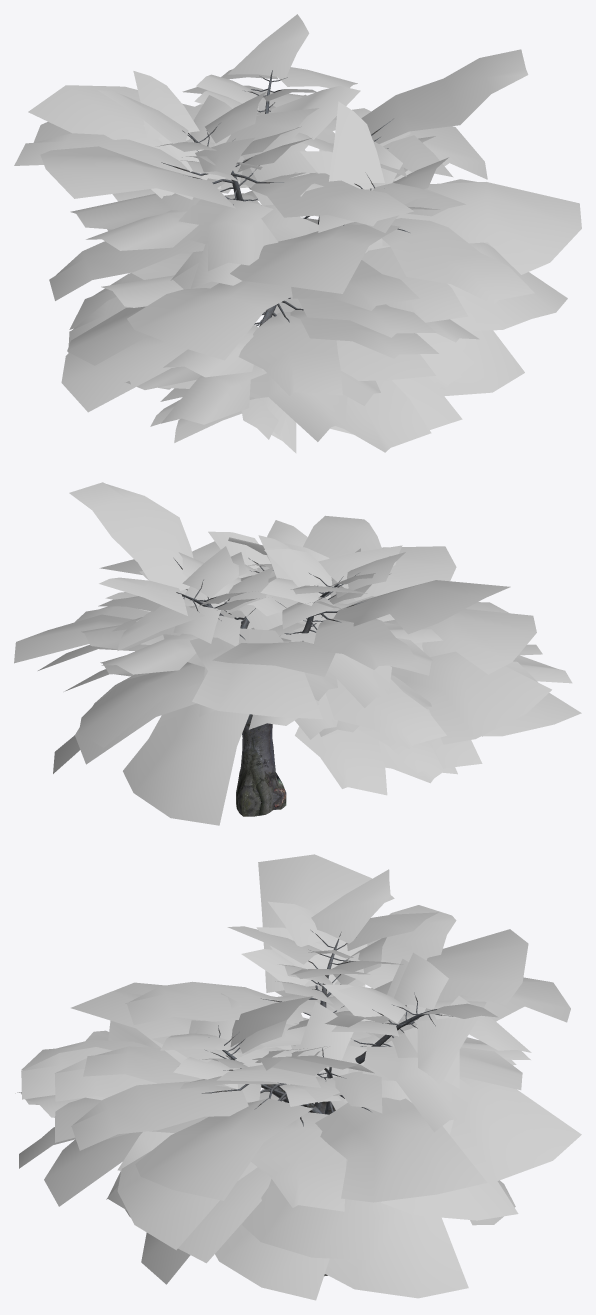
File: a015zzzzz.fbx
3 views of the same model, one above another, from view 1: azimuth 30°, elevation 25°; view 2: azimuth 150°, elevation 25°; view 3: azimuth 270°, elevation 25° (orthographic). The views are drawn at different scales.
Parts seen in each view (by area): view 1: Cylinder.243; view 2: Cylinder.243; view 3: Cylinder.243.
Boxes of the visible parts, left/top/right/bottom form: Cylinder.243: left=14, top=14, right=581, bottom=453; Cylinder.243: left=14, top=482, right=581, bottom=825; Cylinder.243: left=15, top=854, right=581, bottom=1300.
Bounding box in the file's own units: 33.91 × 20.32 × 32.91.
